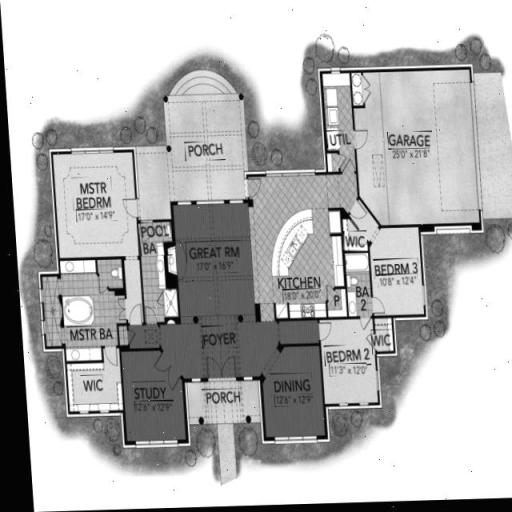Room: (178, 203, 252, 315), (261, 344, 323, 444), (124, 363, 178, 436)
bathroom: (43, 275, 129, 356)
bedroom: (50, 152, 140, 256), (320, 319, 377, 406), (371, 240, 431, 311)
garage: (358, 71, 476, 234)
kitchen: (248, 178, 348, 316)
porch: (168, 86, 245, 201)
